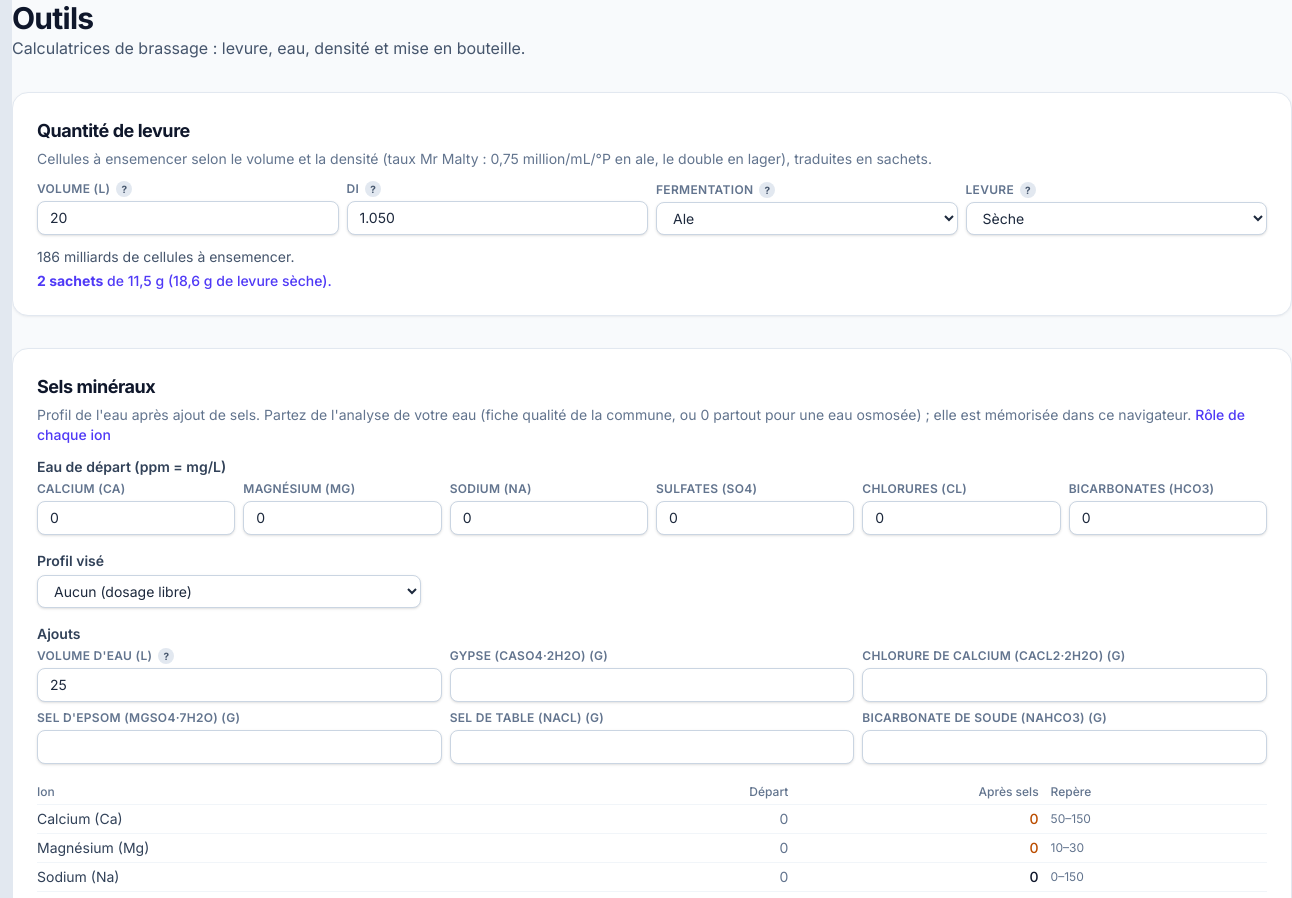
Outils › sels : profil obtenu, rapport sulfates/chlorures, eau de départ mémorisée
Replace the text in the number field labelled "Calcium (Ca)" with "40" at [136, 518], box left=37, top=501, right=235, bottom=535
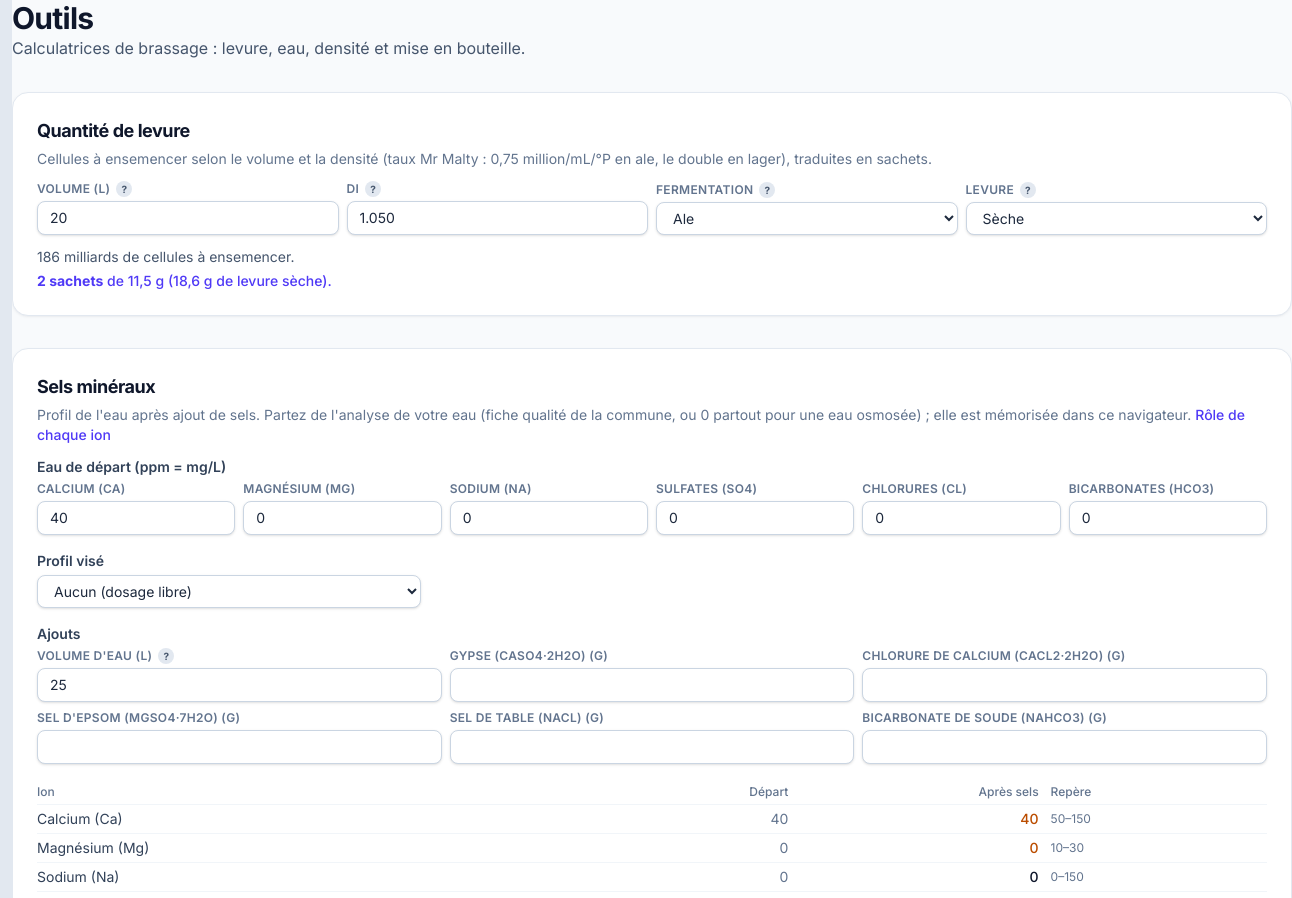
Type "5" into the number field labelled "Gypse (CaSO4·2H2O) (g)".
click(652, 685); type("5")  # box left=450, top=668, right=854, bottom=702
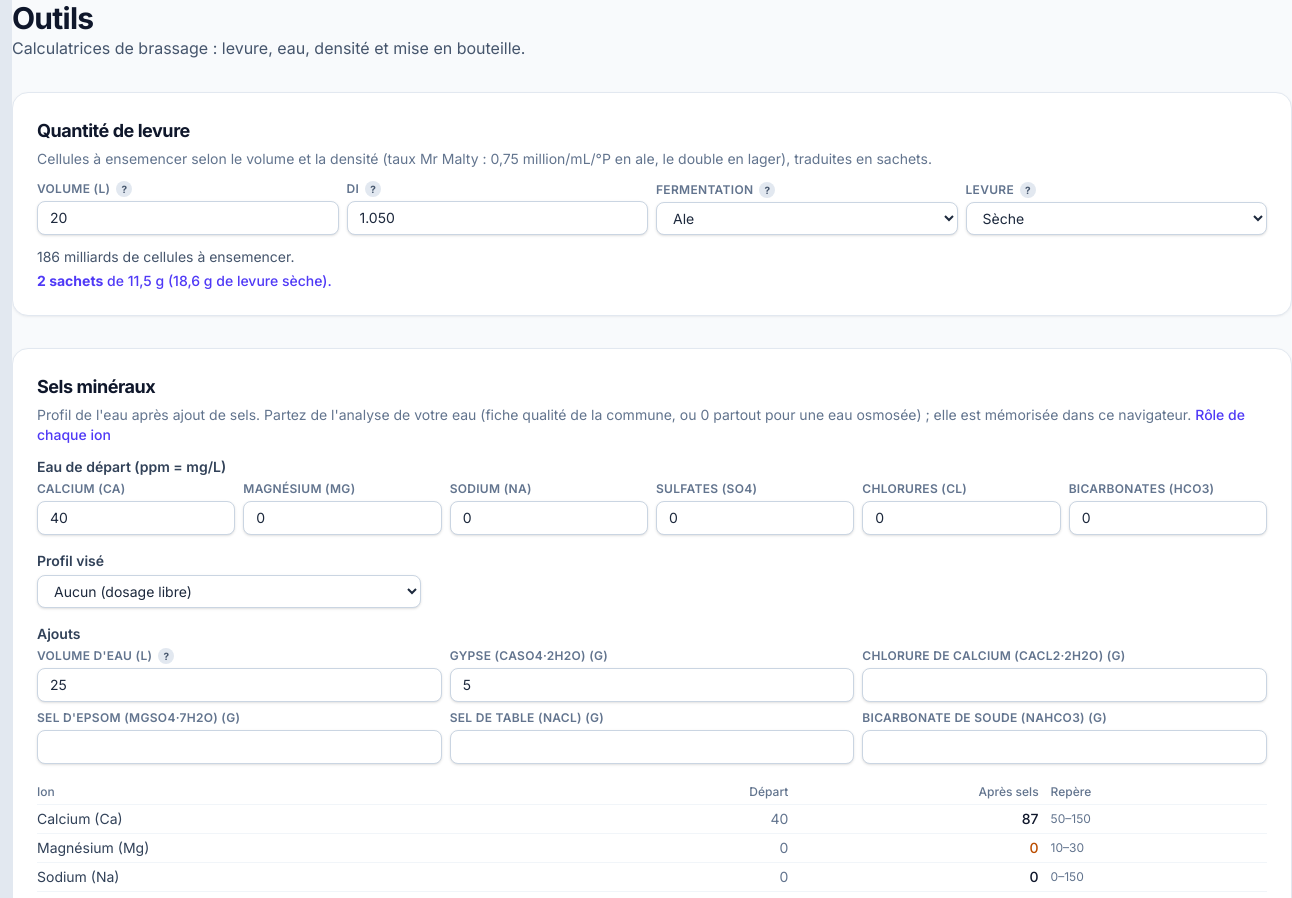
Type "2" into the number field labelled "Chlorure de calcium (CaCl2·2H2O) (g)".
click(1065, 685); type("2")  # box left=862, top=668, right=1267, bottom=702
(page scrolled)
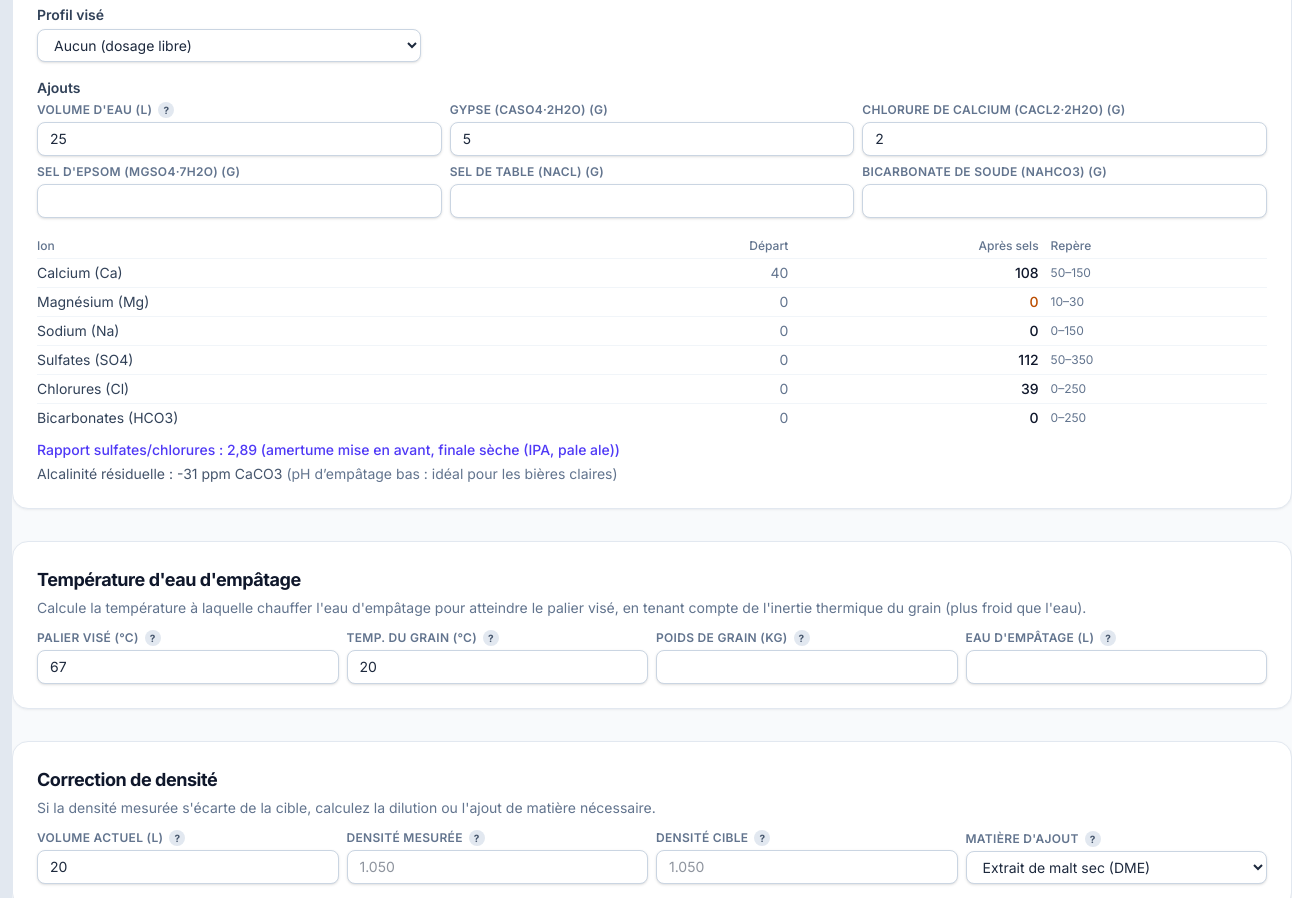
Result: the text "Calcium (Ca)" reads "Calcium (Ca) 40 108 50–150" at left=37, top=258, right=1267, bottom=288
Result: the text "Rapport sulfates/chlorures : 2,89 (amertume mise en avant" is shown at left=37, top=441, right=620, bottom=458
